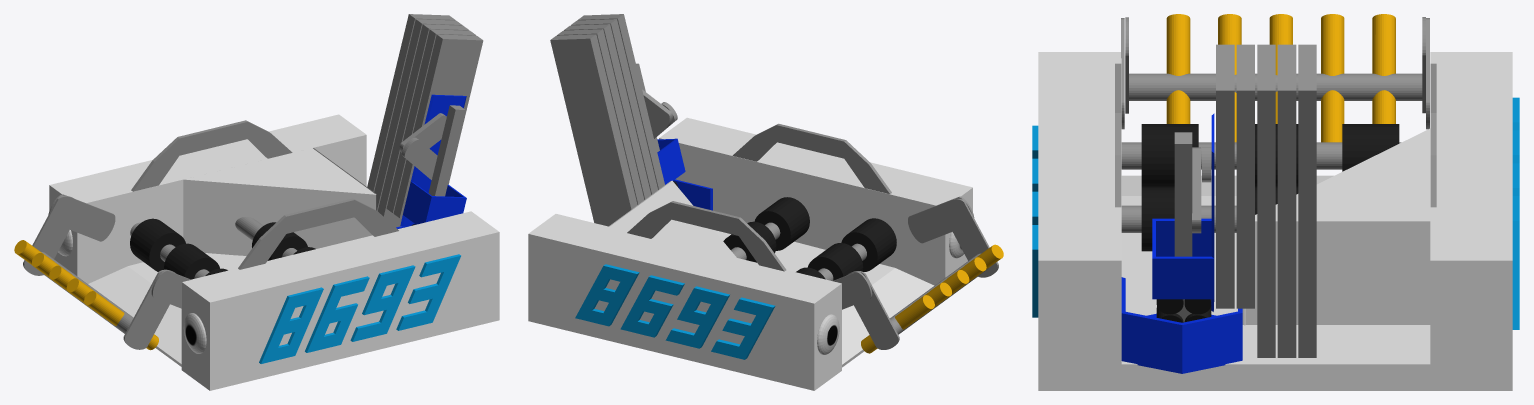
The model's file is KhepriAtHome.glb.
The picture shows the model from 3 angles, left to right: view 1: azimuth 30°, elevation 25°; view 2: azimuth 150°, elevation 25°; view 3: azimuth 270°, elevation 25°; orthographic projection. The views are drawn at different scales.
Parts seen in each view (by area): view 1: Body, Lift5, Handle Left, Handle Right, Deposit, Plane, Plane.001, Plane.002, Lift3, Plane.003, Lift2, Lift1 (+15 smaller); view 2: Body, Lift1, Handle Right, Handle Left, Plane.007, Plane.005, Plane.006, Plane.004, Lift2, Lift3, Lift4, Cylinder.003 (+14 smaller); view 3: Body, Bucket, Lift2, Lift3, Lift1, IntakeRod1.001, Lift5, Lift4, Deposit, Cylinder.005, Roller3, Cube (+16 smaller).
Part boxes in pixels (x1=…): Body: x1=49, y1=114, x2=499, y2=390; Lift5: x1=393, y1=34, x2=483, y2=218; Handle Left: x1=238, y1=198, x2=398, y2=269; Handle Right: x1=131, y1=120, x2=292, y2=191; Deposit: x1=400, y1=94, x2=466, y2=226; Plane: x1=259, y1=287, x2=323, y2=363; Plane.001: x1=305, y1=276, x2=369, y2=352; Plane.002: x1=350, y1=265, x2=415, y2=341; Lift3: x1=378, y1=24, x2=469, y2=227; Plane.003: x1=396, y1=254, x2=460, y2=330; Lift2: x1=374, y1=19, x2=462, y2=210; Lift1: x1=367, y1=14, x2=455, y2=191; Body: x1=528, y1=117, x2=972, y2=390; Lift1: x1=550, y1=34, x2=637, y2=226; Handle Right: x1=627, y1=201, x2=786, y2=271; Handle Left: x1=732, y1=123, x2=891, y2=193; Plane.007: x1=575, y1=264, x2=639, y2=326; Plane.005: x1=665, y1=286, x2=729, y2=348; Plane.006: x1=620, y1=275, x2=684, y2=337; Plane.004: x1=711, y1=297, x2=775, y2=359; Lift2: x1=557, y1=29, x2=644, y2=204; Lift3: x1=564, y1=24, x2=651, y2=199; Lift4: x1=571, y1=19, x2=657, y2=194; Cylinder.003: x1=941, y1=198, x2=998, y2=277; Body: x1=1038, y1=52, x2=1512, y2=390; Bucket: x1=1121, y1=277, x2=1242, y2=373; Lift2: x1=1277, y1=44, x2=1296, y2=357; Lift3: x1=1257, y1=44, x2=1275, y2=357; Lift1: x1=1298, y1=44, x2=1316, y2=357; IntakeRod1.001: x1=1129, y1=73, x2=1422, y2=100; Lift5: x1=1216, y1=44, x2=1234, y2=308; Lift4: x1=1236, y1=44, x2=1254, y2=308; Deposit: x1=1152, y1=113, x2=1214, y2=311; Cylinder.005: x1=1321, y1=14, x2=1344, y2=142; Roller3: x1=1141, y1=124, x2=1198, y2=187; Cube: x1=1174, y1=132, x2=1192, y2=322.
Size of the model in its own units: 6.81 by 3.75 by 4.74.
7 materials, 2 textured.
